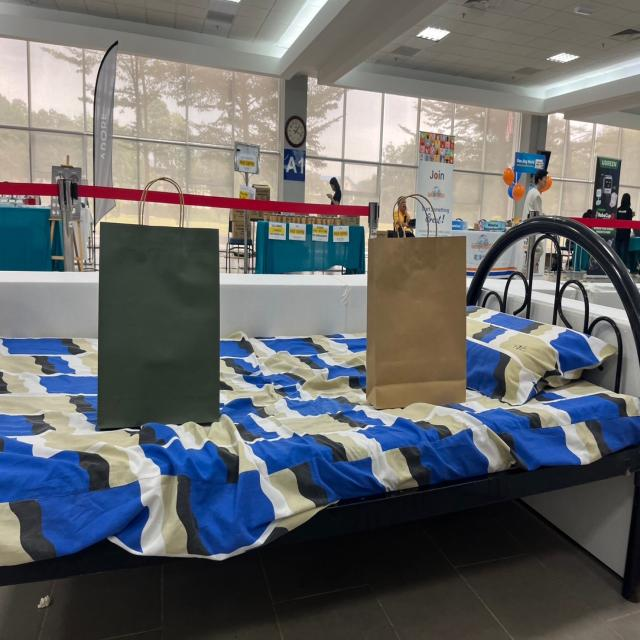bag: (102, 157, 217, 421), (372, 185, 461, 397)
